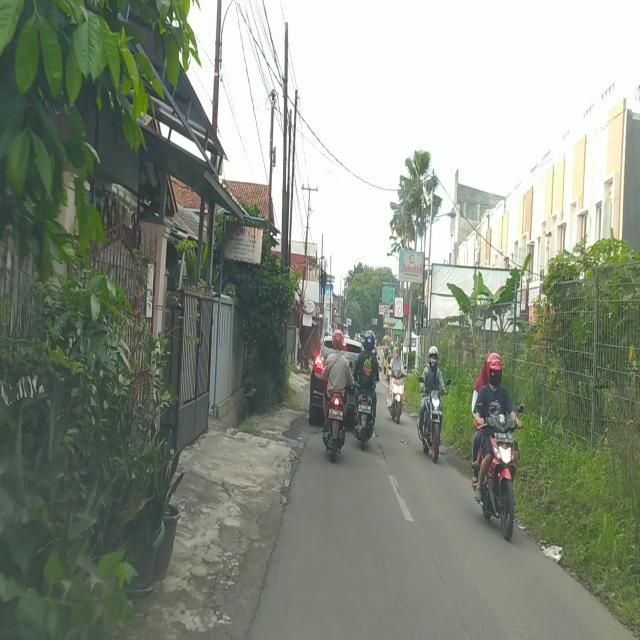Drain Hole: (378, 438, 389, 472), (393, 477, 402, 500)
